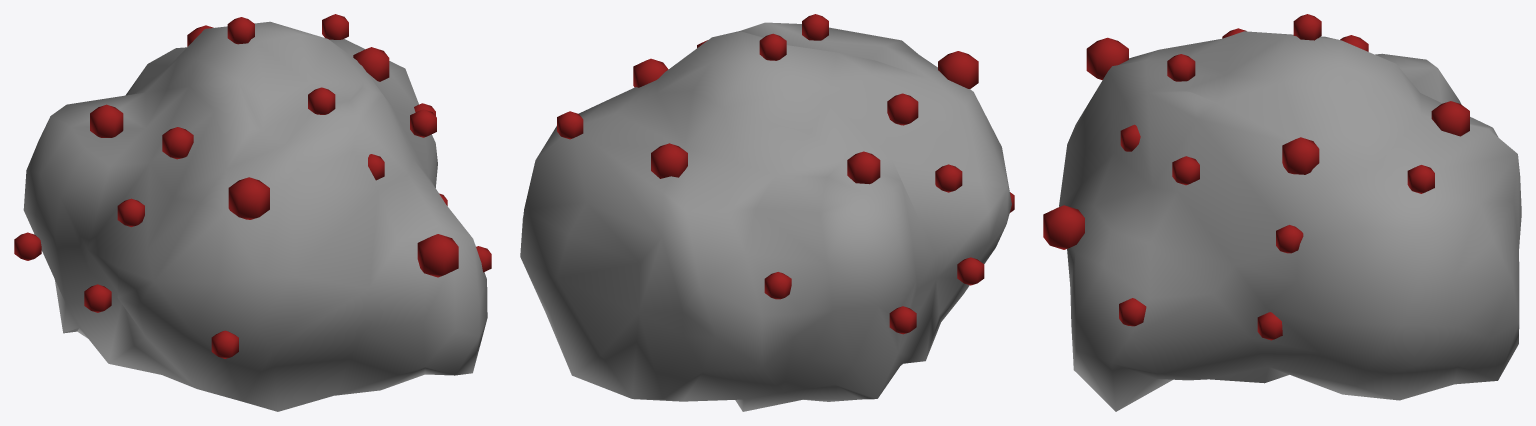
File: Bush2.fbx
The picture shows the model from 3 angles, left to right: view 1: azimuth 30°, elevation 25°; view 2: azimuth 150°, elevation 25°; view 3: azimuth 270°, elevation 25°; orthographic projection. The views are drawn at different scales.
Visible parts, largest first — view 1: Bush2; view 2: Bush2; view 3: Bush2.
Boxes of the visible parts, x1,y1,x2,y2 form: Bush2: [14, 14, 491, 411]; Bush2: [520, 14, 1014, 411]; Bush2: [1043, 14, 1521, 411].
Size of the model in its own units: 237 by 190 by 246.
